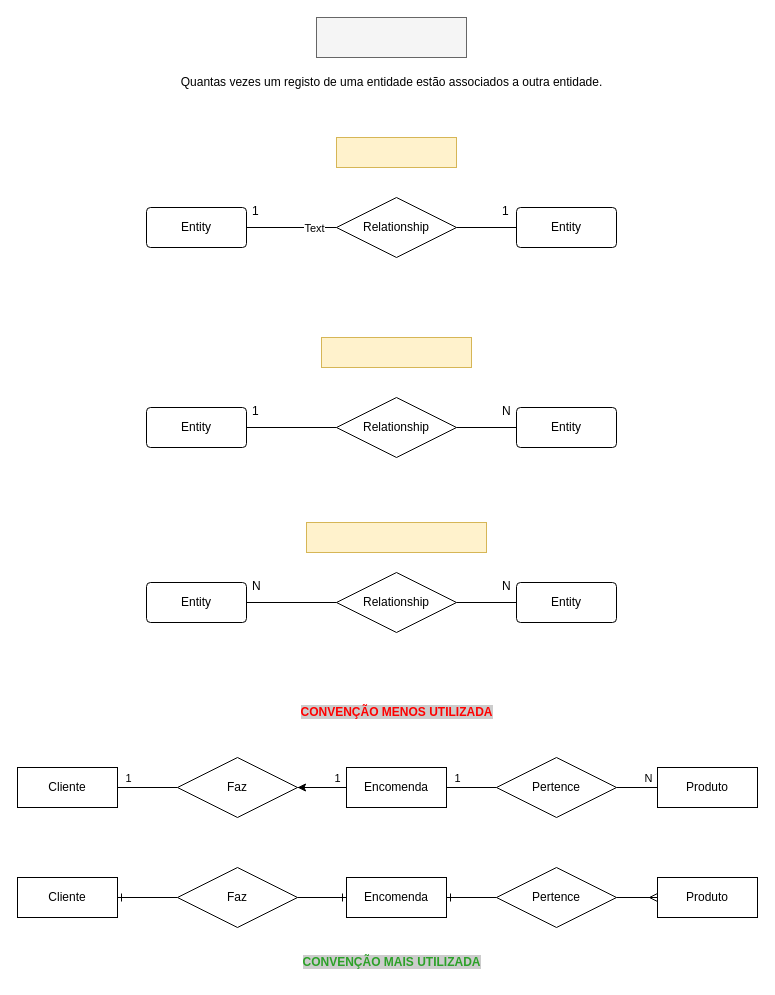
Some shapes in this 775 by 995 pixel diagram are drawn without their labels. The box of each missing label's shape, as (x1, y1, x2, y2) in pixels:
Cardinalidade: (316, 16, 466, 58)
Relacao 1 para 1 .: (336, 136, 456, 168)
Relacao 1 para muitos .: (320, 336, 472, 368)
Relacao muitos para muitos.: (306, 522, 486, 552)
